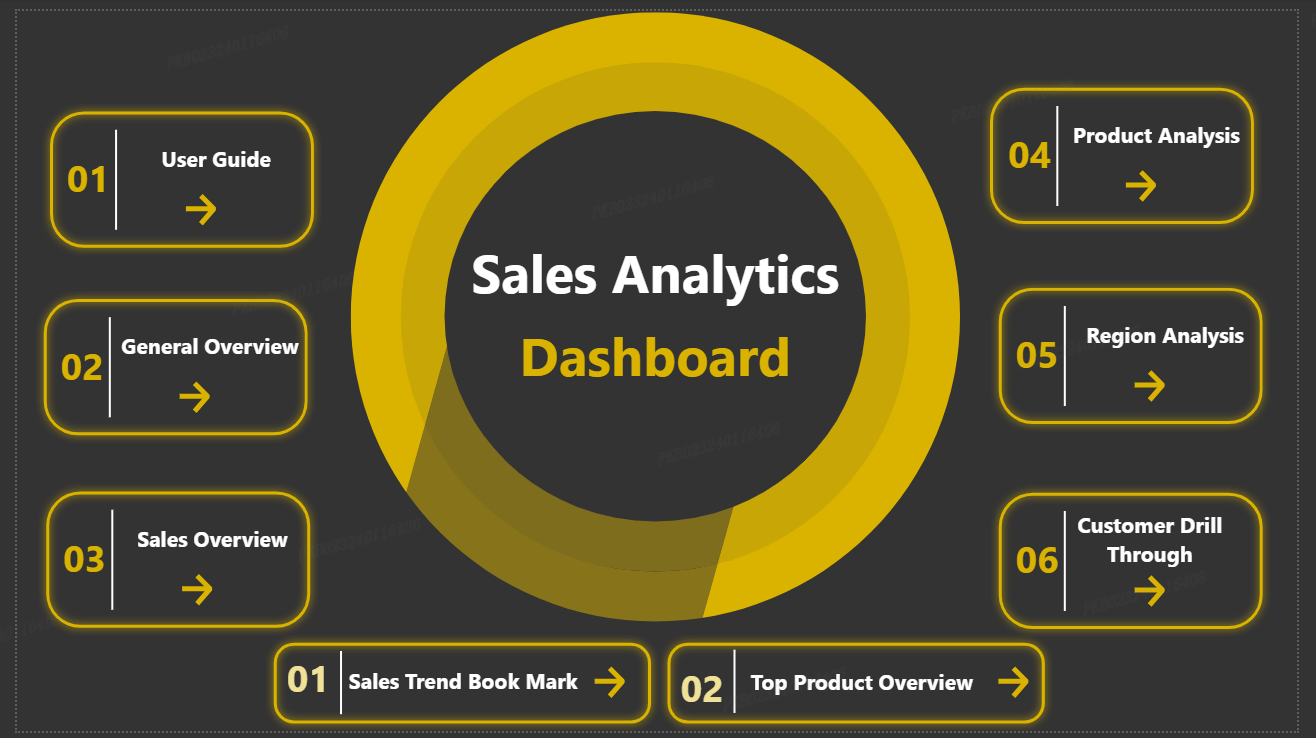

The page's visual inventory and layout, read from the dashboard file:
{"tool":"powerbi","page":{"name":"Title Page","canvas":[1280,720],"ordinal":0},"visuals":[{"type":"shape","box":[333.5,1.2,609.3,609.3],"z":0},{"type":"shape","box":[377.4,50.6,521.4,510.5],"z":1000},{"type":"shape","box":[333.5,196.1,466.6,483],"z":2000},{"type":"shape","box":[24.7,91.9,279.9,152.3],"z":3000},{"type":"actionButton","box":[131.9,178.1,100,40],"z":4000},{"type":"textbox","box":[99.4,126.9,198.8,41.9],"z":5000},{"type":"textbox","box":[45,135.6,67.5,66.2],"z":6000},{"type":"shape","box":[66.2,118.1,65.6,100],"z":7000},{"type":"shape","box":[18.7,280.6,279.9,152.3],"z":8000},{"type":"actionButton","box":[125.9,366.8,100,40],"z":9000},{"type":"textbox","box":[93.4,315.5,198.8,41.9],"z":10000},{"type":"textbox","box":[39,324.3,67.5,66.2],"z":11000},{"type":"shape","box":[60.3,306.8,65.6,100],"z":12000},{"type":"shape","box":[21,472.9,279.9,152.3],"z":13000},{"type":"actionButton","box":[128.2,559.1,100,40],"z":14000},{"type":"textbox","box":[95.7,507.9,198.8,41.9],"z":15000},{"type":"textbox","box":[41.3,516.6,67.5,66.2],"z":16000},{"type":"shape","box":[62.6,499.1,65.6,100],"z":17000},{"type":"shape","box":[965.4,68.3,279.9,152.3],"z":18000},{"type":"actionButton","box":[1072.5,154.5,100,40],"z":19000},{"type":"textbox","box":[1040,103.2,198.8,41.9],"z":20000},{"type":"textbox","box":[985.7,112,67.5,66.2],"z":21000},{"type":"shape","box":[1006.9,94.5,65.6,100],"z":22000},{"type":"shape","box":[974,268.9,279.9,152.3],"z":23000},{"type":"actionButton","box":[1081.2,355.1,100,40],"z":24000},{"type":"textbox","box":[1048.7,303.9,198.8,41.9],"z":25000},{"type":"textbox","box":[994.3,312.6,67.5,66.2],"z":26000},{"type":"shape","box":[1015.6,295.1,65.6,100],"z":27000},{"type":"shape","box":[974,474.3,279.9,152.3],"z":28000},{"type":"actionButton","box":[1081.2,560.5,100,40],"z":29000},{"type":"textbox","box":[1033.3,494.3,198.3,73.3],"z":30000},{"type":"textbox","box":[994.3,518,67.5,66.2],"z":31000},{"type":"shape","box":[1015.6,500.5,65.6,100],"z":32000},{"type":"textbox","box":[425.3,220.3,426.7,95],"z":33000},{"type":"textbox","box":[425.3,302,426.7,95],"z":34000},{"type":"shape","box":[248.3,623.3,393.3,96.7],"z":35000},{"type":"actionButton","box":[541.7,651.7,100,40],"z":36000},{"type":"textbox","box":[271.7,650,350,41.7],"z":37000},{"type":"textbox","box":[264.4,636.7,66.7,66.7],"z":38000},{"type":"shape","box":[291.1,640,65.6,63.3],"z":39000},{"type":"shape","box":[642.3,623.3,393.3,96.7],"z":40000},{"type":"actionButton","box":[945,651.7,100,40],"z":41000},{"type":"textbox","box":[725,651.7,240,41.7],"z":42000},{"type":"textbox","box":[658.4,646.7,66.7,66.7],"z":43000},{"type":"shape","box":[685,638.3,65,63.3],"z":44000}]}

Visuals, with their boxes in screenshot pixels (x1, y1, x2, y2), scaled from the page's 1280x720 canvas onto the 1316x738 screenshot:
shape: {"x1": 343, "y1": 1, "x2": 969, "y2": 626}
shape: {"x1": 388, "y1": 52, "x2": 924, "y2": 575}
shape: {"x1": 343, "y1": 201, "x2": 823, "y2": 696}
shape: {"x1": 25, "y1": 94, "x2": 313, "y2": 250}
actionButton: {"x1": 136, "y1": 183, "x2": 238, "y2": 224}
textbox: {"x1": 102, "y1": 130, "x2": 307, "y2": 173}
textbox: {"x1": 46, "y1": 139, "x2": 116, "y2": 207}
shape: {"x1": 68, "y1": 121, "x2": 136, "y2": 224}
shape: {"x1": 19, "y1": 288, "x2": 307, "y2": 444}
actionButton: {"x1": 129, "y1": 376, "x2": 232, "y2": 417}
textbox: {"x1": 96, "y1": 323, "x2": 300, "y2": 366}
textbox: {"x1": 40, "y1": 332, "x2": 109, "y2": 400}
shape: {"x1": 62, "y1": 314, "x2": 129, "y2": 417}
shape: {"x1": 22, "y1": 485, "x2": 309, "y2": 641}
actionButton: {"x1": 132, "y1": 573, "x2": 235, "y2": 614}
textbox: {"x1": 98, "y1": 521, "x2": 303, "y2": 564}
textbox: {"x1": 42, "y1": 530, "x2": 112, "y2": 597}
shape: {"x1": 64, "y1": 512, "x2": 132, "y2": 614}
shape: {"x1": 993, "y1": 70, "x2": 1280, "y2": 226}
actionButton: {"x1": 1103, "y1": 158, "x2": 1205, "y2": 199}
textbox: {"x1": 1069, "y1": 106, "x2": 1274, "y2": 149}
textbox: {"x1": 1013, "y1": 115, "x2": 1083, "y2": 183}
shape: {"x1": 1035, "y1": 97, "x2": 1103, "y2": 199}
shape: {"x1": 1001, "y1": 276, "x2": 1289, "y2": 432}
actionButton: {"x1": 1112, "y1": 364, "x2": 1214, "y2": 405}
textbox: {"x1": 1078, "y1": 311, "x2": 1283, "y2": 354}
textbox: {"x1": 1022, "y1": 320, "x2": 1092, "y2": 388}
shape: {"x1": 1044, "y1": 302, "x2": 1112, "y2": 405}
shape: {"x1": 1001, "y1": 486, "x2": 1289, "y2": 642}
actionButton: {"x1": 1112, "y1": 575, "x2": 1214, "y2": 616}
textbox: {"x1": 1062, "y1": 507, "x2": 1266, "y2": 582}
textbox: {"x1": 1022, "y1": 531, "x2": 1092, "y2": 599}
shape: {"x1": 1044, "y1": 513, "x2": 1112, "y2": 616}
textbox: {"x1": 437, "y1": 226, "x2": 876, "y2": 323}
textbox: {"x1": 437, "y1": 310, "x2": 876, "y2": 407}
shape: {"x1": 255, "y1": 639, "x2": 660, "y2": 737}
actionButton: {"x1": 557, "y1": 668, "x2": 660, "y2": 709}
textbox: {"x1": 279, "y1": 666, "x2": 639, "y2": 709}
textbox: {"x1": 272, "y1": 653, "x2": 340, "y2": 721}
shape: {"x1": 299, "y1": 656, "x2": 367, "y2": 721}
shape: {"x1": 660, "y1": 639, "x2": 1065, "y2": 737}
actionButton: {"x1": 972, "y1": 668, "x2": 1074, "y2": 709}
textbox: {"x1": 745, "y1": 668, "x2": 992, "y2": 711}
textbox: {"x1": 677, "y1": 663, "x2": 745, "y2": 731}
shape: {"x1": 704, "y1": 654, "x2": 771, "y2": 719}
